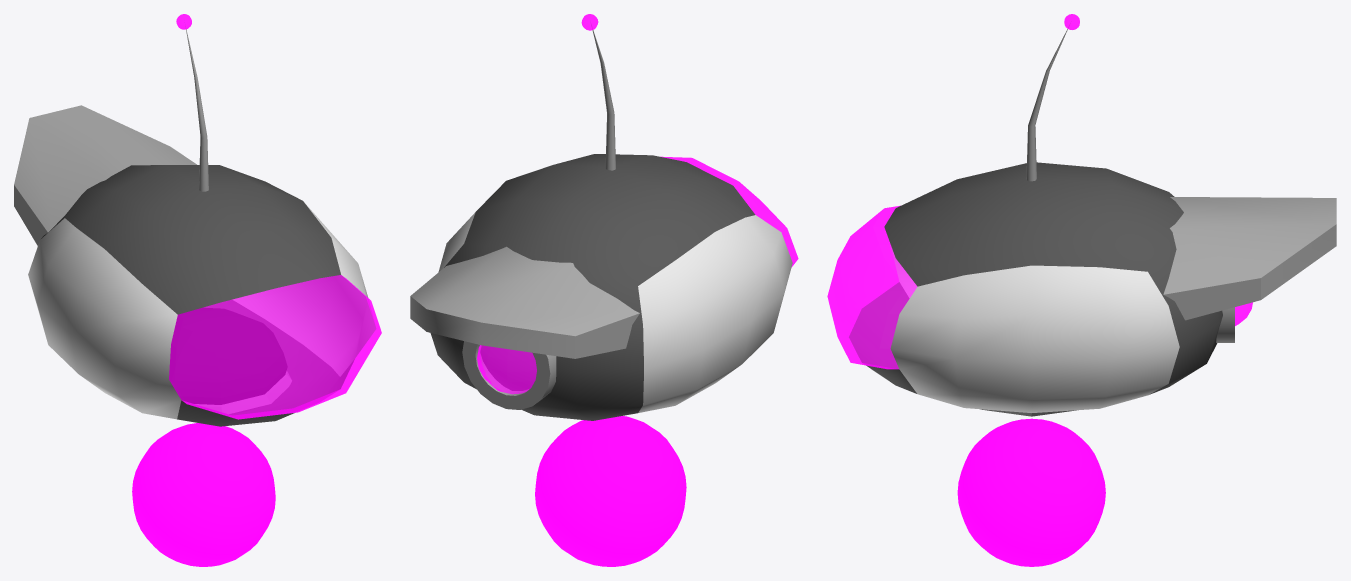
Rendered from GAME3040 - Maintainence Drone.fbx.
3 views of the same model, side by side, from view 1: azimuth 30°, elevation 25°; view 2: azimuth 150°, elevation 25°; view 3: azimuth 270°, elevation 25° (orthographic). The views are drawn at different scales.
Parts seen in each view (by area): view 1: pCube1, Energy_Sphere, pCube2, pSphere1, pTorus1, Antenna; view 2: pCube1, Energy_Sphere, pCube2, pPipe1, pSphere3, Antenna; view 3: pCube1, Energy_Sphere, pCube2, Antenna.
Boxes of the visible parts, x1,y1,x2,y2 form: pCube1: (28, 165, 381, 426); Energy_Sphere: (132, 423, 275, 566); pCube2: (14, 105, 196, 245); pSphere1: (169, 308, 287, 404); pTorus1: (196, 371, 291, 414); Antenna: (186, 29, 208, 191); pCube1: (430, 154, 798, 420); Energy_Sphere: (535, 416, 686, 566); pCube2: (410, 246, 639, 358); pPipe1: (462, 341, 556, 409); pSphere3: (477, 345, 536, 394); Antenna: (591, 25, 615, 170); pCube1: (827, 162, 1222, 412); Energy_Sphere: (957, 418, 1105, 566); pCube2: (1163, 197, 1336, 320); Antenna: (1026, 27, 1068, 181).
Bounding box in the file's own units: 2.56 × 4.87 × 4.12.
